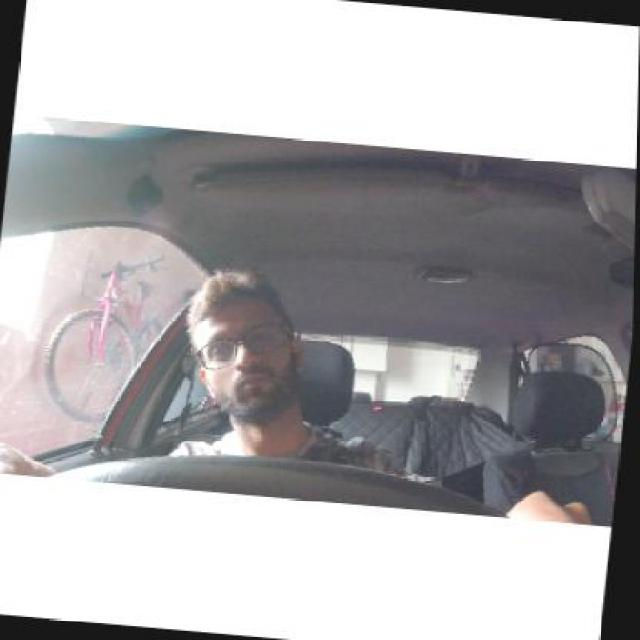person: (191, 264, 311, 436)
